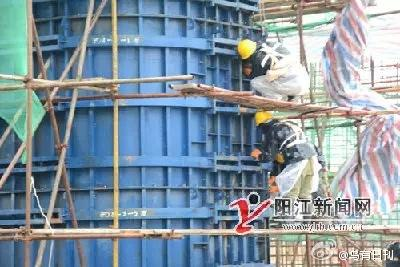helmet: (254, 110, 276, 130), (238, 40, 258, 61)
